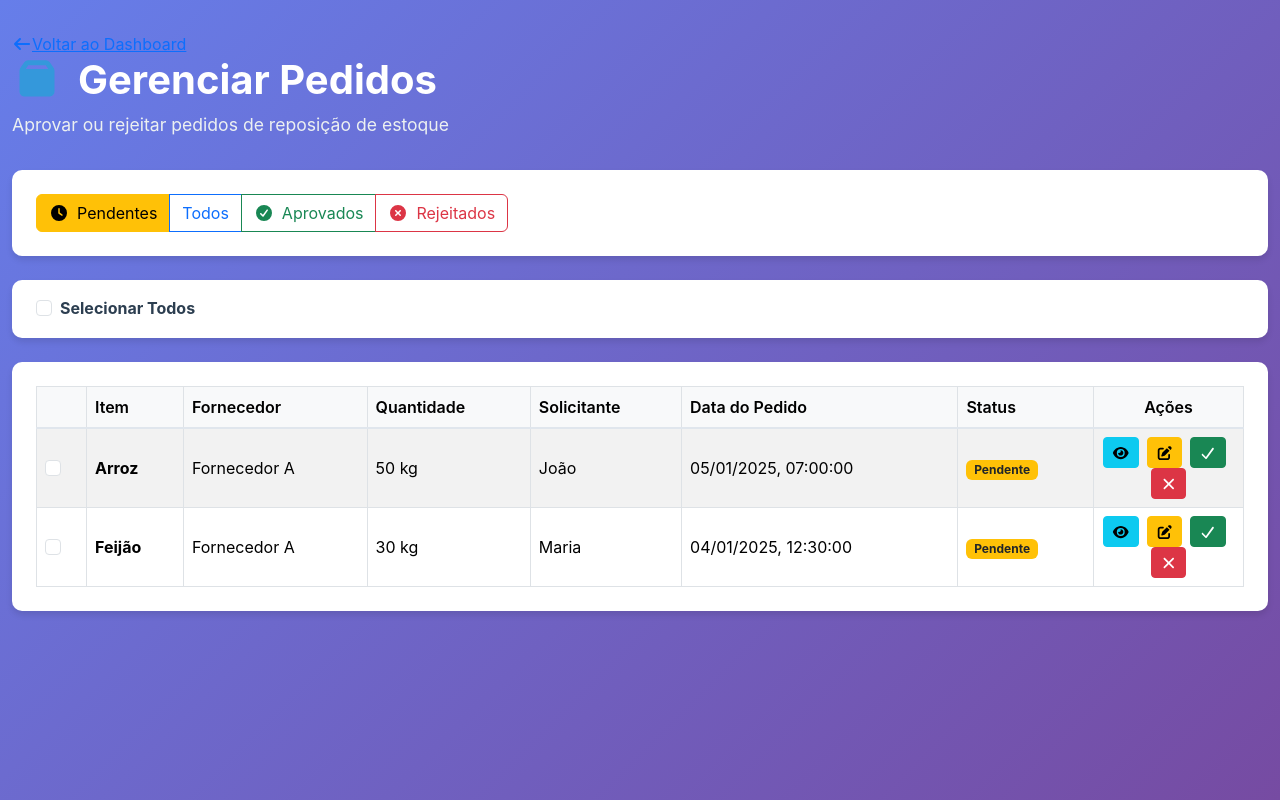
GerenciarPedidos › approves pedido successfully
Click the button named "Aprovar pedido" in the row of "Arroz".
click(1208, 453)  # box [1190,437,1226,468]
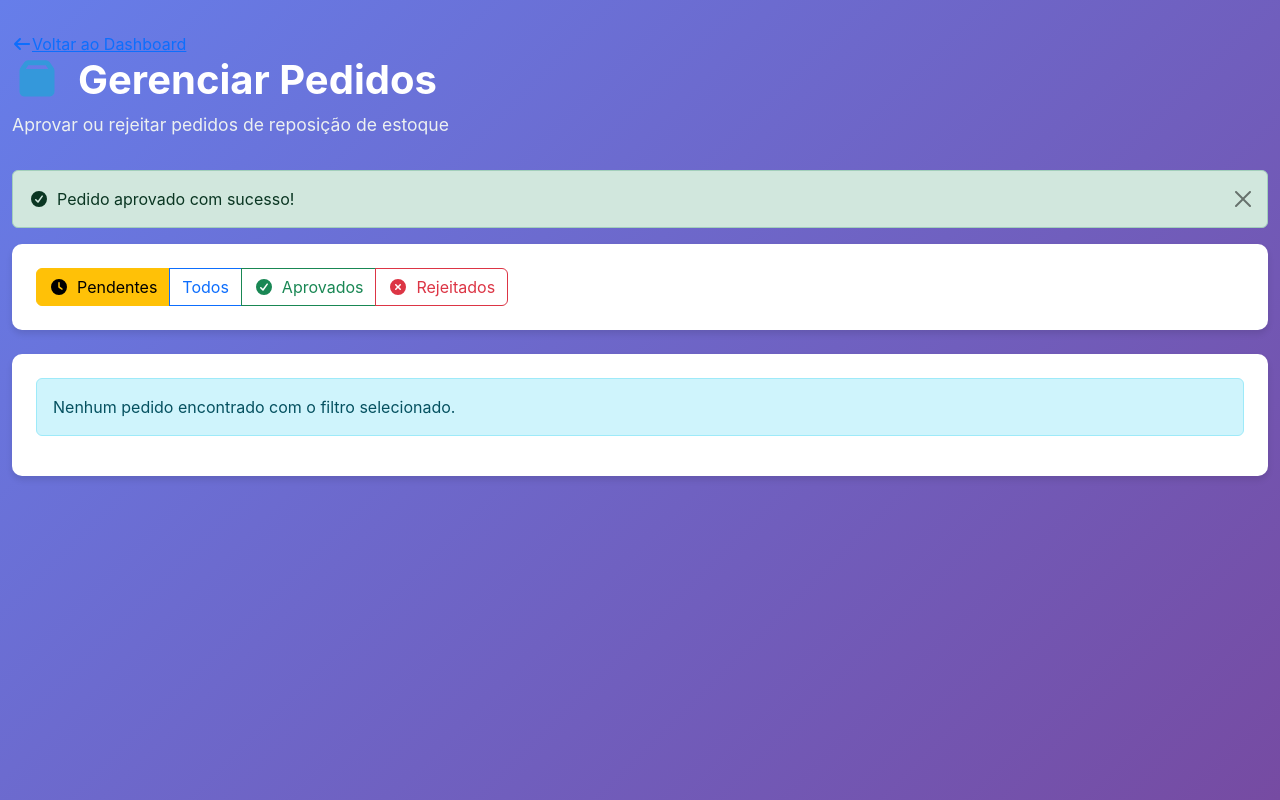
Check: the text "Pedido aprovado com sucesso!" is shown, box [12,170,1268,228]
